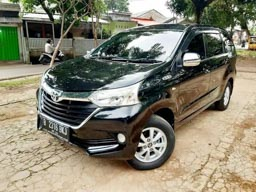plat: (42, 121, 70, 143)
